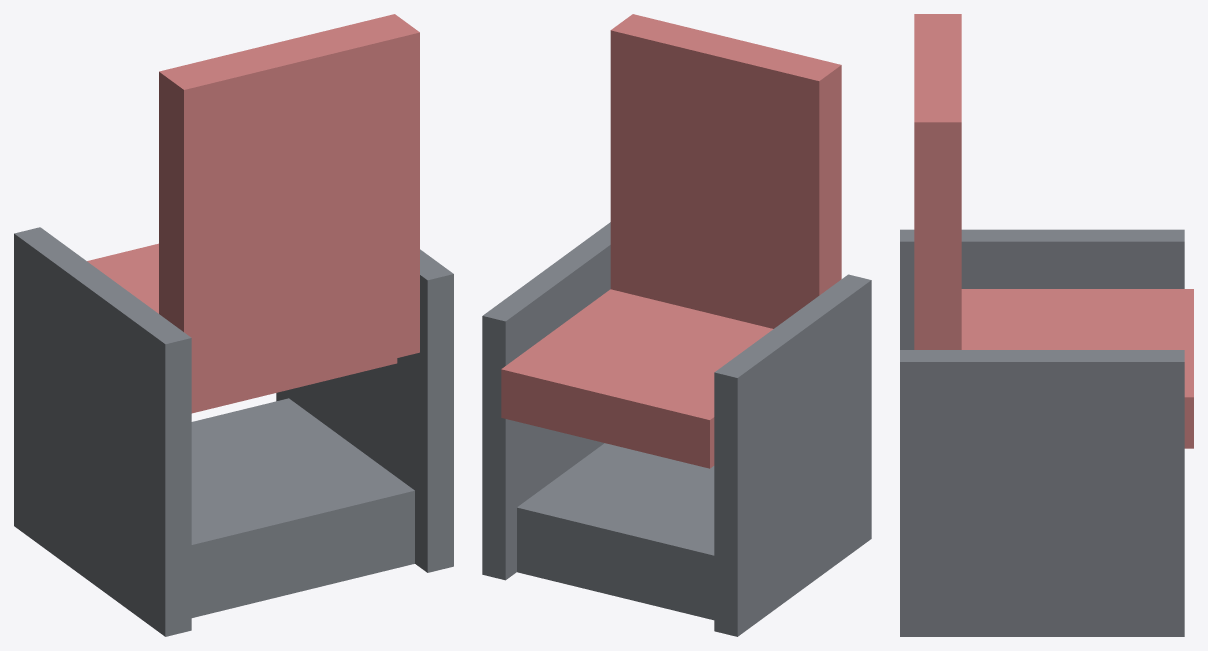
File: theatre_seat.glb
3 views of the same model, side by side, from view 1: azimuth 30°, elevation 25°; view 2: azimuth 150°, elevation 25°; view 3: azimuth 270°, elevation 25° (orthographic). The views are drawn at different scales.
Visible parts, largest first — view 1: theatre_seat; view 2: theatre_seat; view 3: theatre_seat.
Boxes of the visible parts, x1,y1,x2,y2 form: theatre_seat: (14,14,453,636); theatre_seat: (482,14,871,636); theatre_seat: (900,14,1193,636).
Size of the model in its own units: 0.66 by 1.17 by 0.62.
